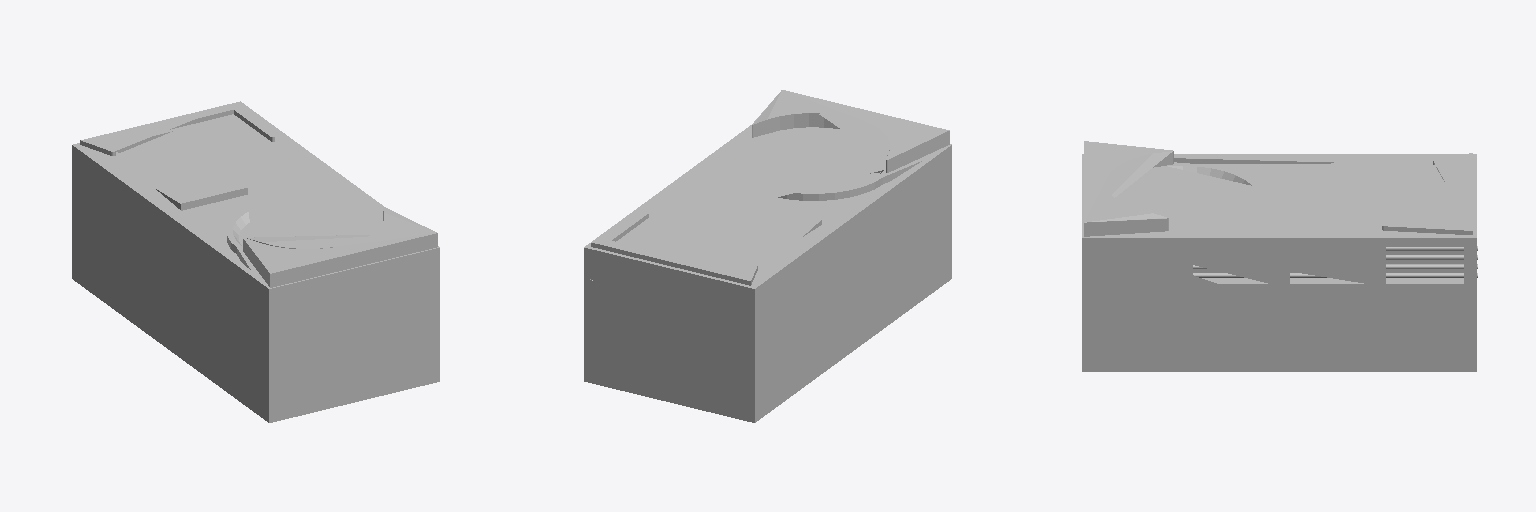
Rendered from platform3b.obj.
The picture shows the model from 3 angles: view 1: azimuth 30°, elevation 25°; view 2: azimuth 150°, elevation 25°; view 3: azimuth 270°, elevation 25°; orthographic projection.
Size of the model in its own units: 4 by 3.32 by 8.01.